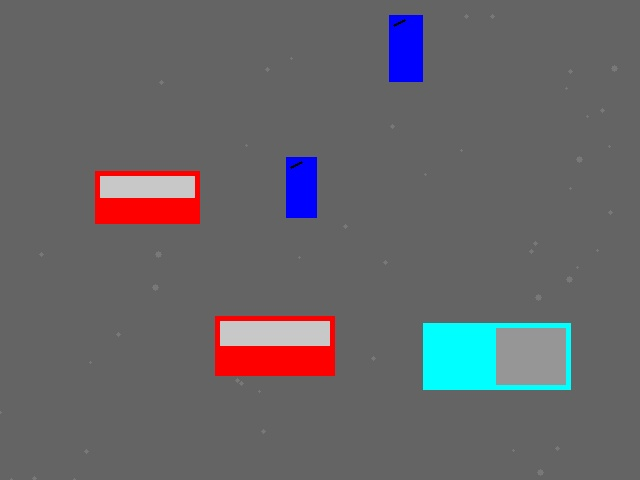car: (215, 316, 334, 375), (95, 171, 199, 223)
motorcycle: (389, 15, 422, 81), (286, 157, 316, 217)
truck: (423, 323, 570, 389)
